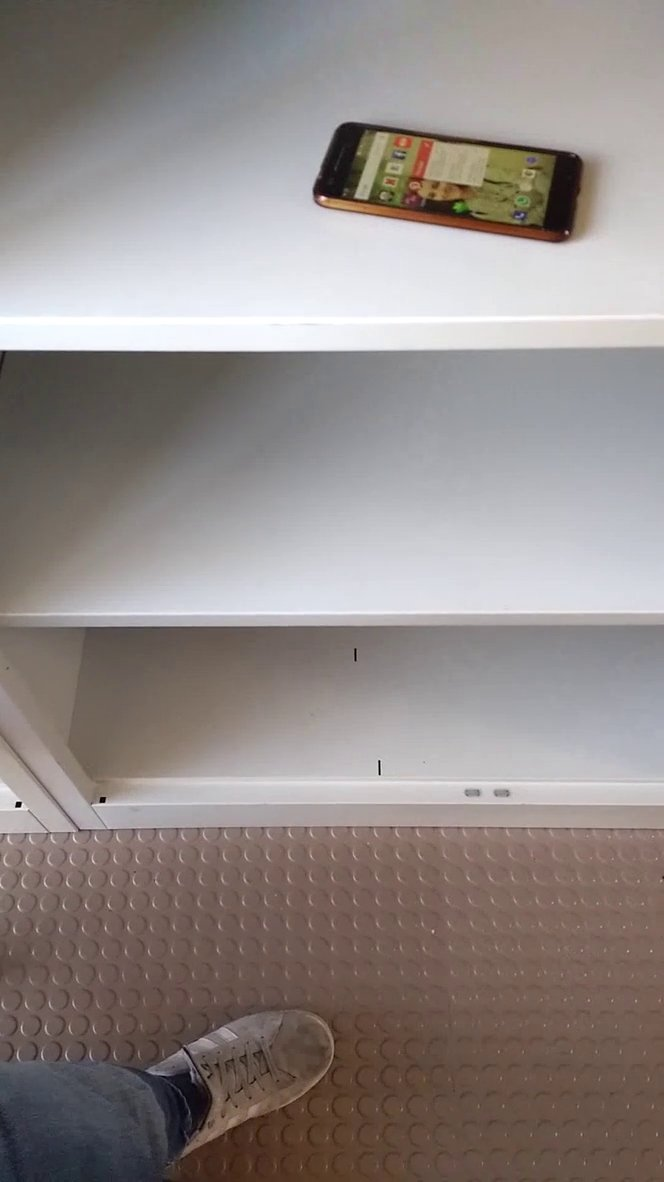phone: (304, 107, 603, 256)
